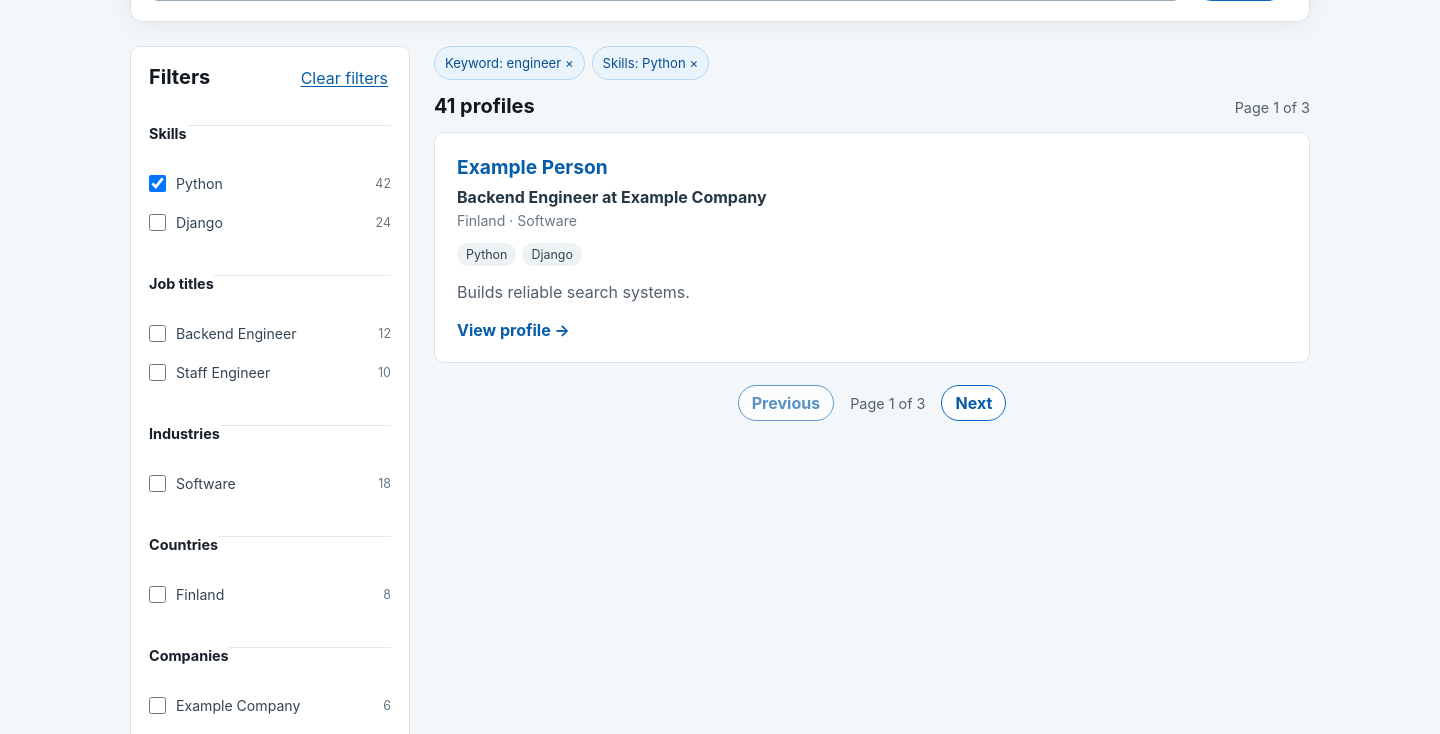
Test case: pagination enforces boundaries and preserves search criteria
The image size is (1440, 734).
(page scrolled)
Check: the text "Page 1 of 3" in the row of "41 profiles" is shown, box [1235,99,1310,116]
Check: the button "Previous" is disabled, box [738,385,834,421]
What coordinates should you click on to do the following:
click the button "Next"
I would click on:
 (974, 403)
Its box is [942,385,1006,421].
(page scrolled)
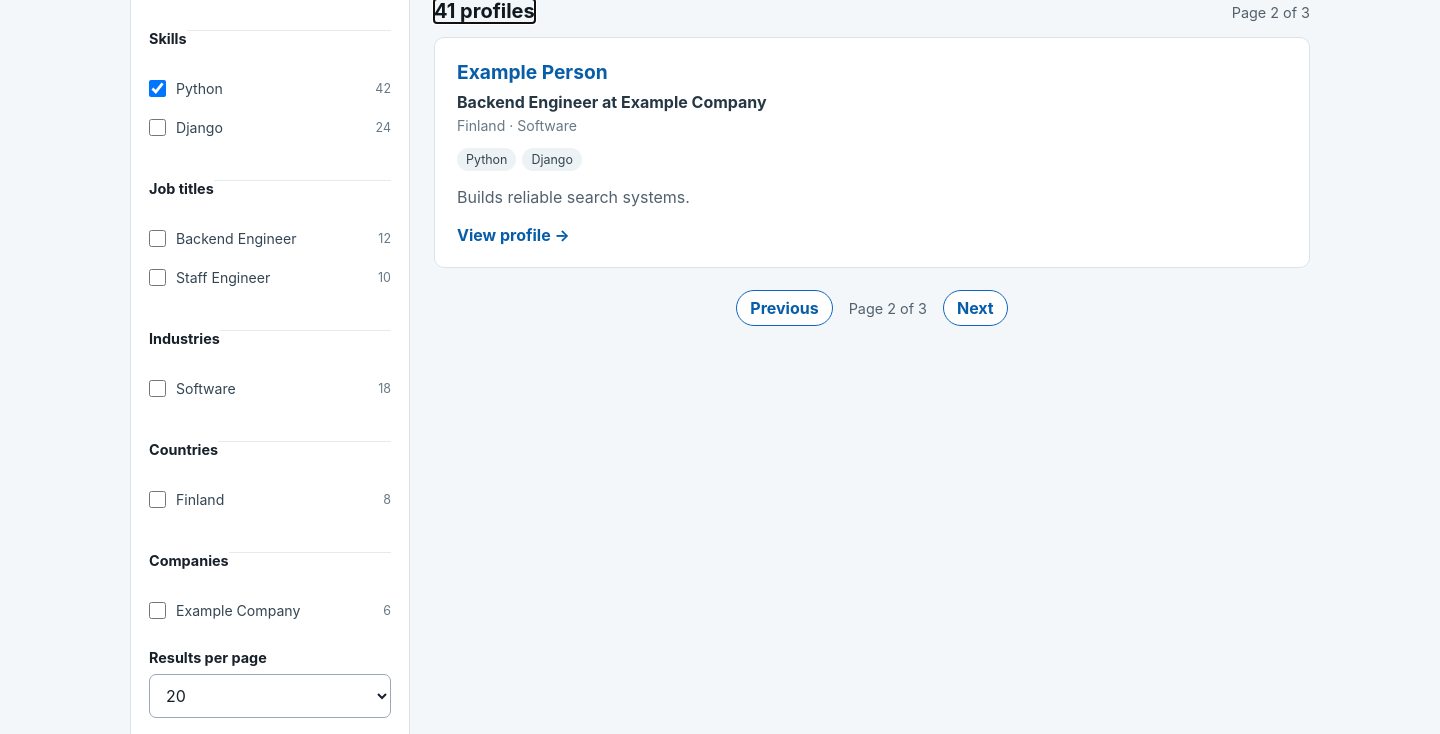
Check: the text "Page 2 of 3" in the row of "41 profiles" is shown, box [1232,4,1310,21]
